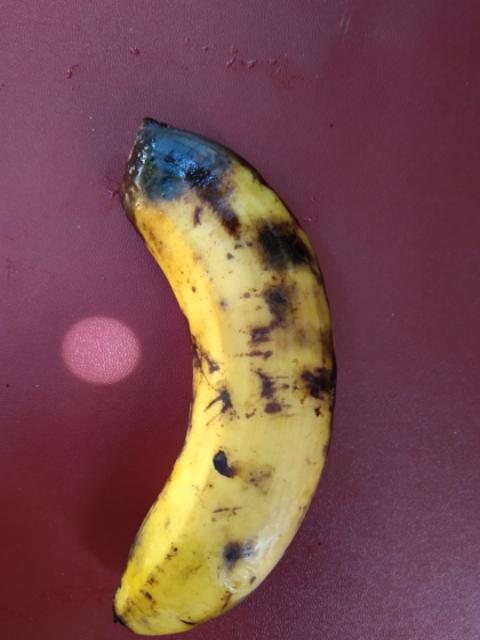overripe: (68, 266, 372, 639)
rotten: (82, 93, 368, 447)
